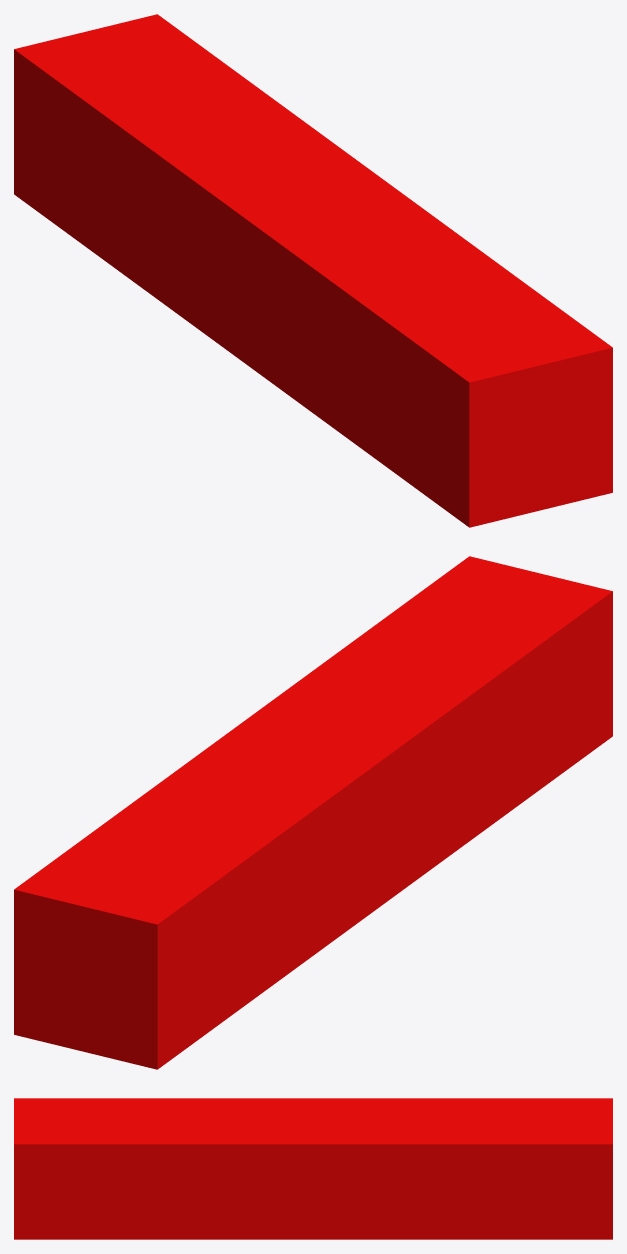
The model's file is tibia_l_col.dae.
The picture shows the model from 3 angles, top to bottom: view 1: azimuth 30°, elevation 25°; view 2: azimuth 150°, elevation 25°; view 3: azimuth 270°, elevation 25°; orthographic projection. The views are drawn at different scales.
Parts seen in each view (by area): view 1: node0; view 2: node0; view 3: node0.
Part boxes in pixels (x1=…): node0: x1=14, y1=14, x2=612, y2=527; node0: x1=14, y1=556, x2=612, y2=1069; node0: x1=14, y1=1098, x2=612, y2=1239.
Size of the model in its own units: 0.0704 by 0.068 by 0.3867.
